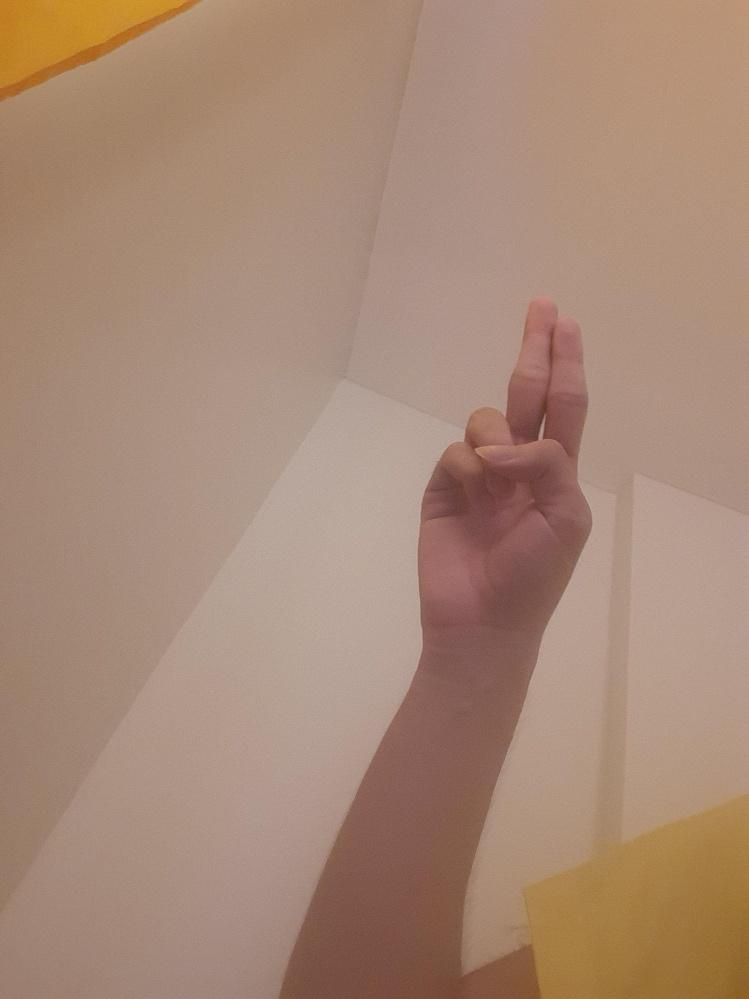u: (416, 298, 594, 631)
